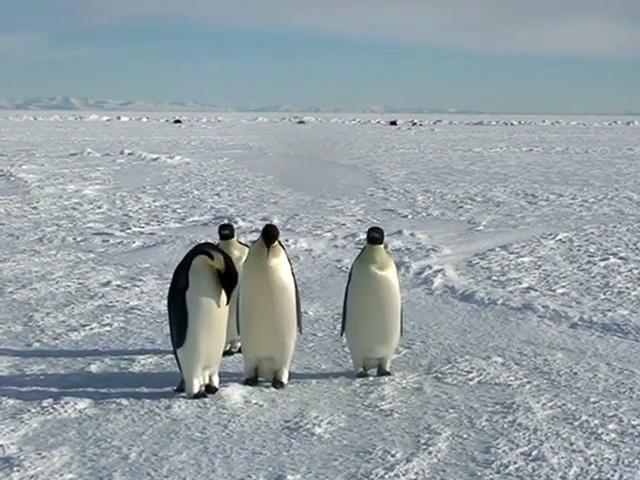animal: (342, 227, 404, 378)
